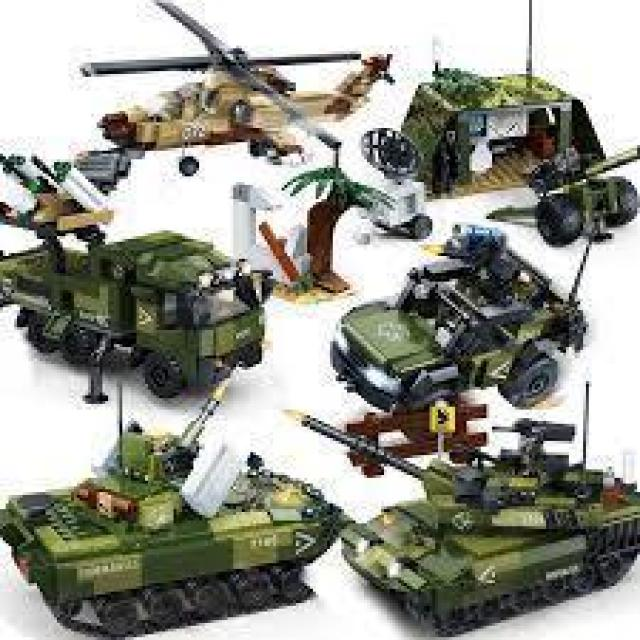Tanks: (14, 424, 324, 626), (344, 451, 637, 616)
